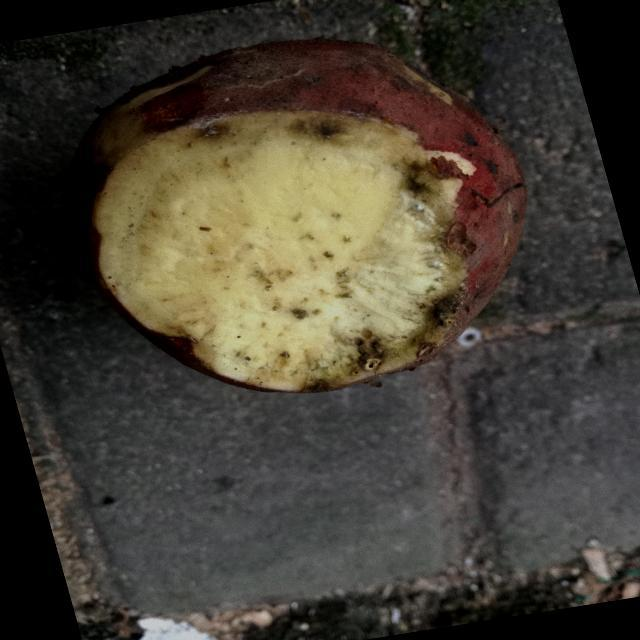Sick Sweet Potato_Tuber Rot: (95, 111, 467, 391)
